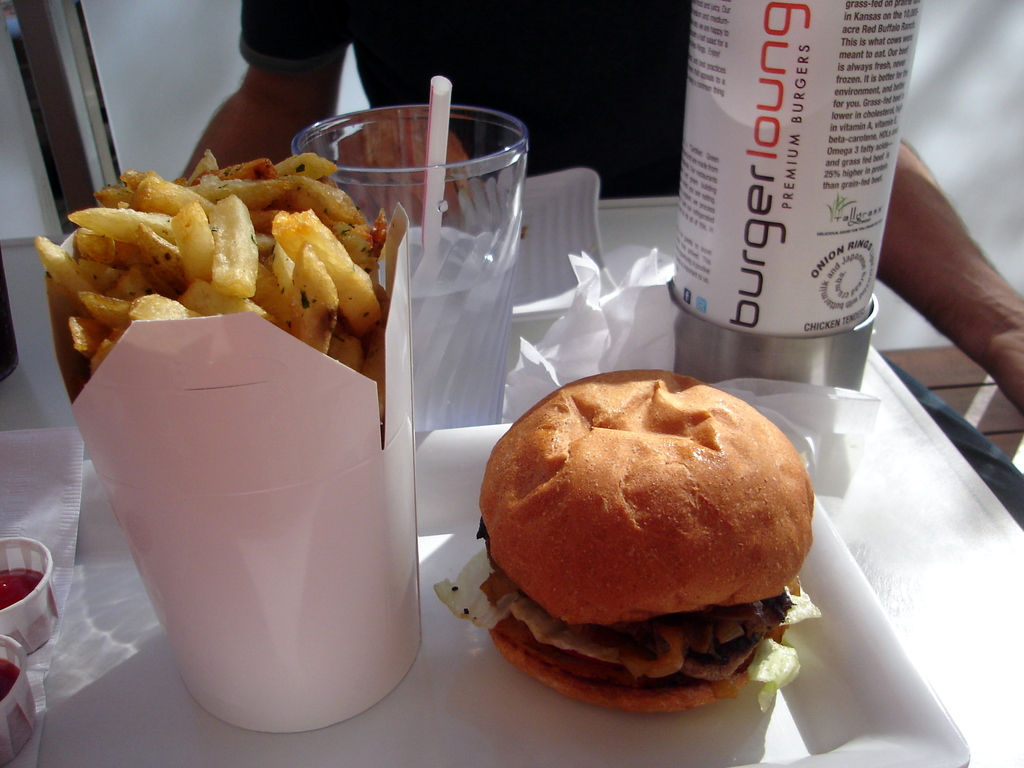French fries: (40, 150, 405, 364)
